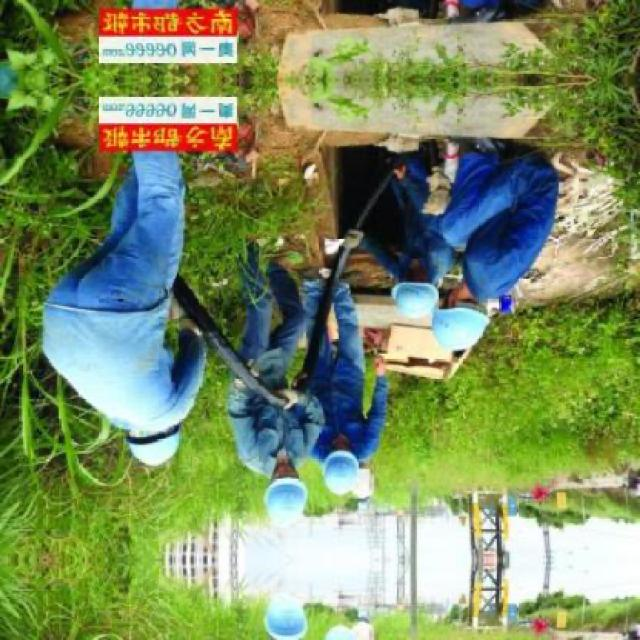con casco: (115, 376, 208, 486), (368, 268, 479, 330), (254, 442, 316, 536), (414, 282, 507, 344), (326, 412, 382, 493)
